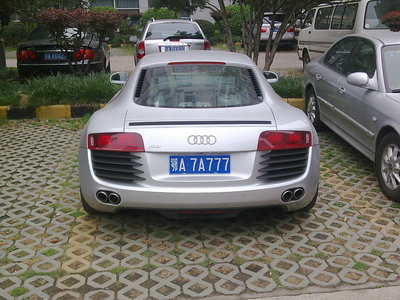plate_number: (169, 155, 233, 174), (43, 52, 66, 59)
